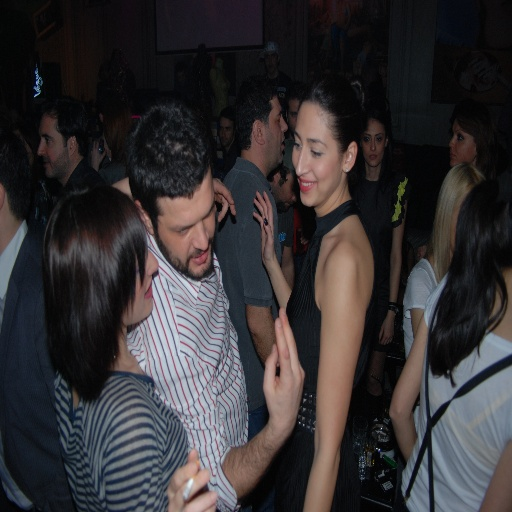hand: (248, 284, 303, 466), (166, 448, 219, 511), (251, 189, 275, 270), (213, 178, 237, 223), (90, 138, 108, 171), (378, 318, 395, 346), (416, 246, 428, 260)
